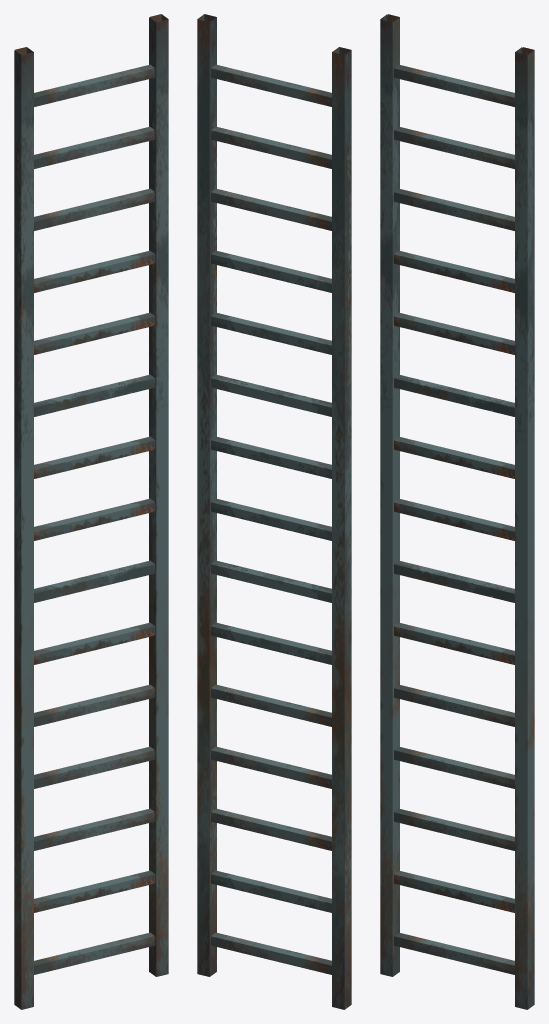
The model's file is EscadaMedia 1.fbx.
The picture shows the model from 3 angles, left to right: view 1: azimuth 30°, elevation 25°; view 2: azimuth 150°, elevation 25°; view 3: azimuth 330°, elevation 25°; orthographic projection.
Parts seen in each view (by area): view 1: EscadaMedia; view 2: EscadaMedia; view 3: EscadaMedia.
Boxes of the visible parts, x1=… form: EscadaMedia: x1=14, y1=14, x2=168, y2=1009; EscadaMedia: x1=197, y1=14, x2=351, y2=1009; EscadaMedia: x1=380, y1=14, x2=534, y2=1009.
Bounding box in the file's own units: 130 × 807 × 11.
